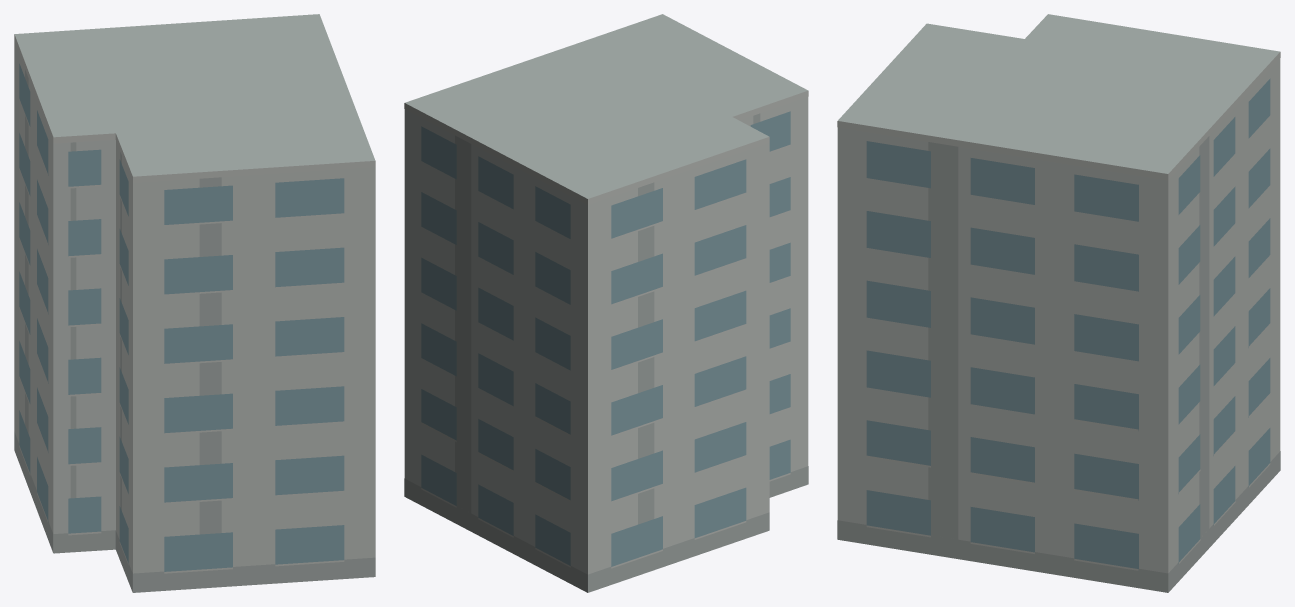
The model's file is survey-upis-33019653.glb.
3 renders of one model, left to right at view 1: azimuth 30°, elevation 25°; view 2: azimuth 150°, elevation 25°; view 3: azimuth 270°, elevation 25°, orthographic. The views are drawn at different scales.
Visible parts, largest first — view 1: survey-upis-33019653.tmp; view 2: survey-upis-33019653.tmp; view 3: survey-upis-33019653.tmp.
Boxes of the visible parts, x1,y1,x2,y2 form: survey-upis-33019653.tmp: (14,14,375,592); survey-upis-33019653.tmp: (404,14,808,592); survey-upis-33019653.tmp: (837,14,1280,592).
Bounding box in the file's own units: 12.96 × 15.8 × 15.15.
